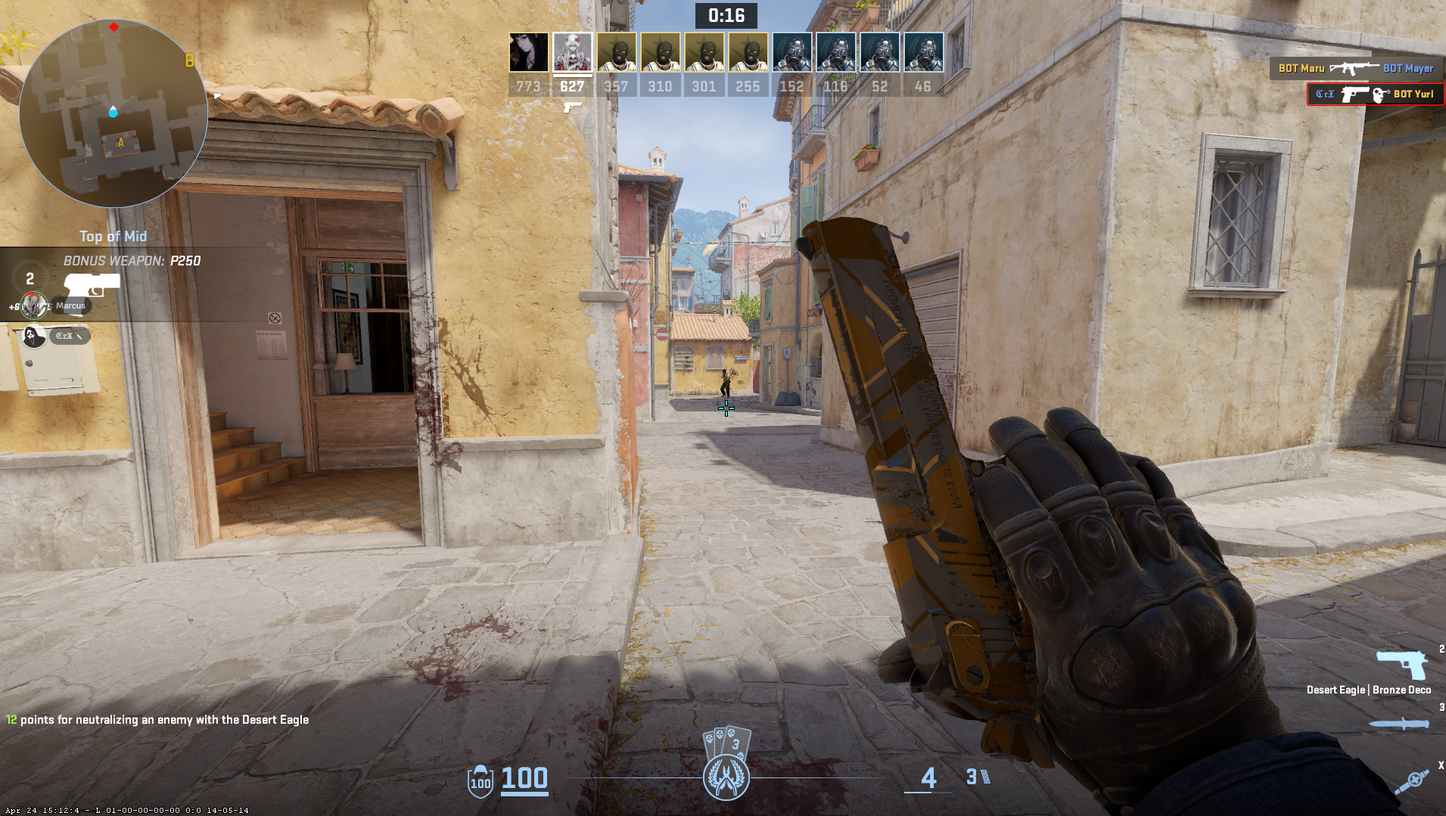T: (721, 369, 730, 398)
